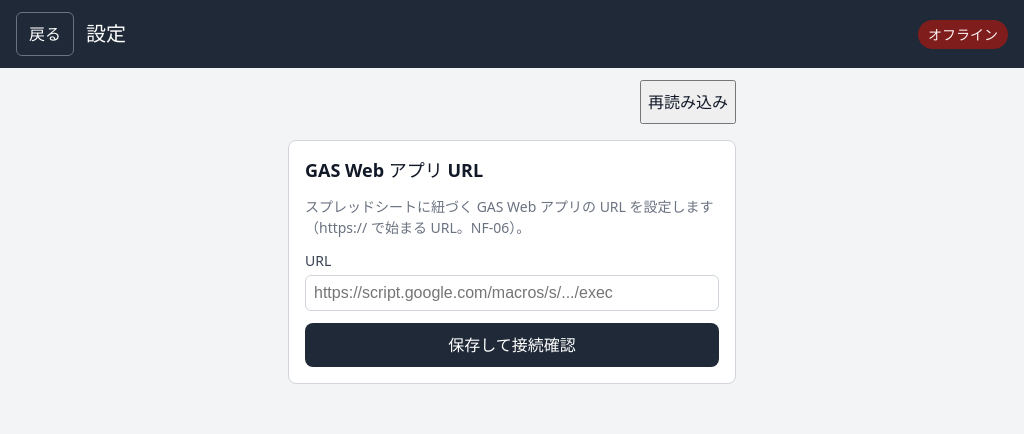
Test case: GAS URL未設定（初回セットアップの最初のステップ） › 空欄で保存するとエラーを表示し、通信しない
This screenshot has width=1024, height=434.
Expected: the field labelled "URL" is shown, [305,275,719,311]
Step 1. Click the button "保存して接続確認" → x=512, y=345, box [305,323,719,367]
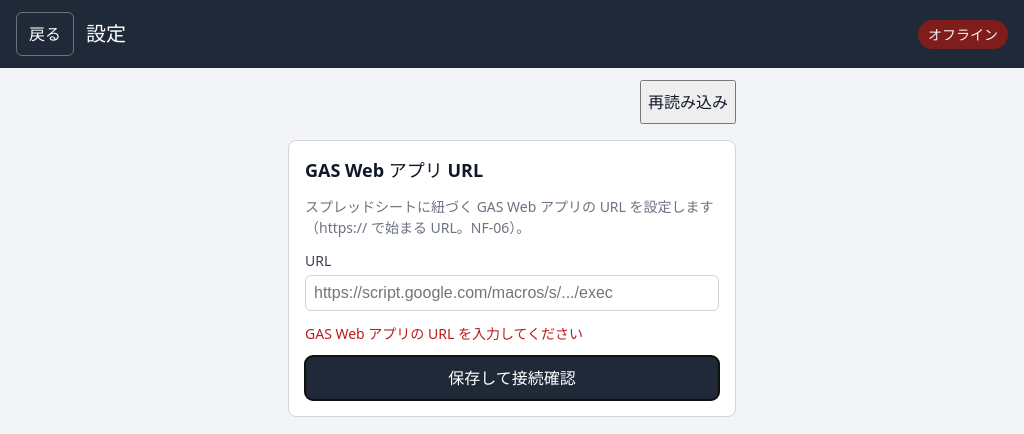
Expected: the message reads "GAS Web アプリの URL を入力してください", [305,324,583,343]
